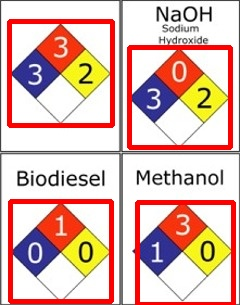nfpa: (9, 21, 112, 125), (129, 47, 230, 147), (10, 201, 111, 301), (137, 202, 233, 304)
